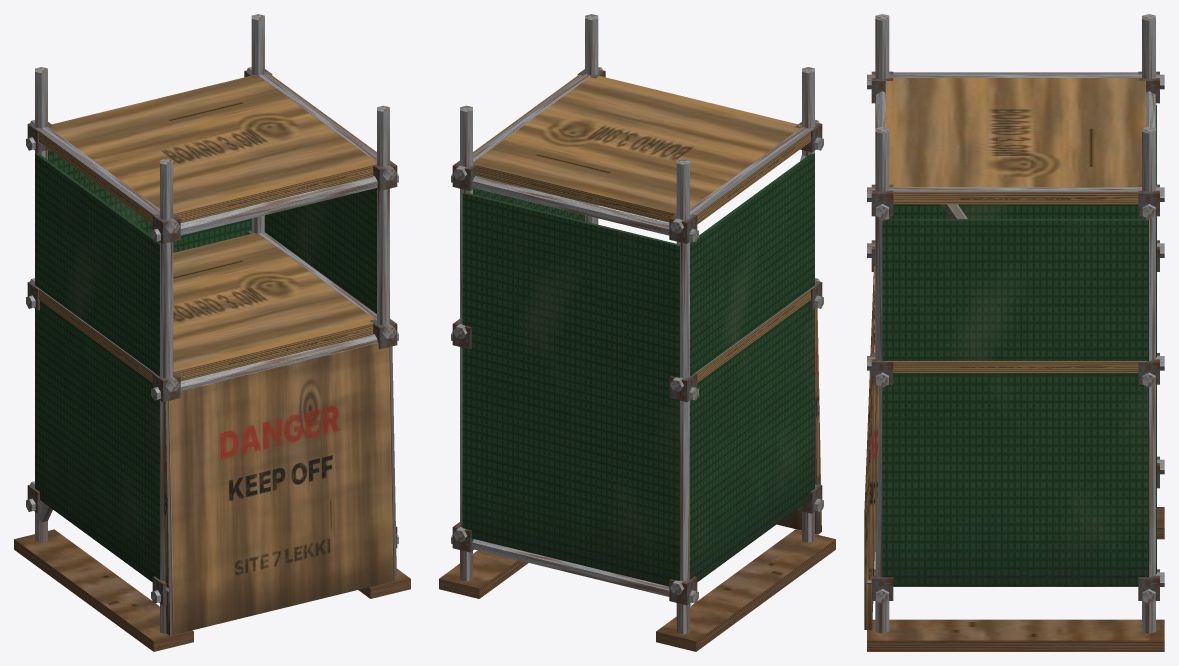
The model's file is prop_pillar_scaffold.glb.
3 renders of one model, left to right at view 1: azimuth 30°, elevation 25°; view 2: azimuth 150°, elevation 25°; view 3: azimuth 270°, elevation 25°, orthographic. The views are drawn at different scales.
Visible parts, largest first — view 1: prop_pillar_scaffold_body; view 2: prop_pillar_scaffold_body; view 3: prop_pillar_scaffold_body.
Part boxes in pixels (left/top/right/bottom): prop_pillar_scaffold_body: left=14, top=14, right=410, bottom=651; prop_pillar_scaffold_body: left=439, top=14, right=835, bottom=651; prop_pillar_scaffold_body: left=864, top=14, right=1164, bottom=651.
Bounding box in the file's own units: 1.02 × 1.82 × 0.9682.
1 material, 1 textured.
